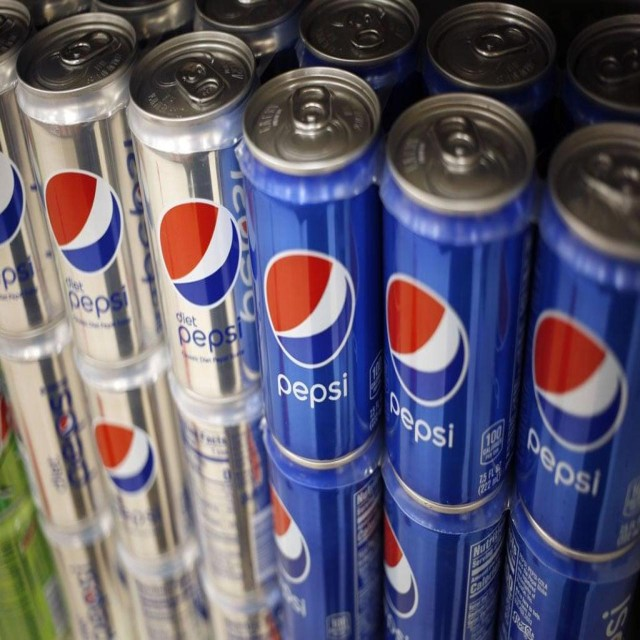pepsi: (528, 309, 632, 455), (386, 269, 476, 407), (262, 245, 356, 370), (158, 195, 243, 312), (45, 167, 126, 276)
